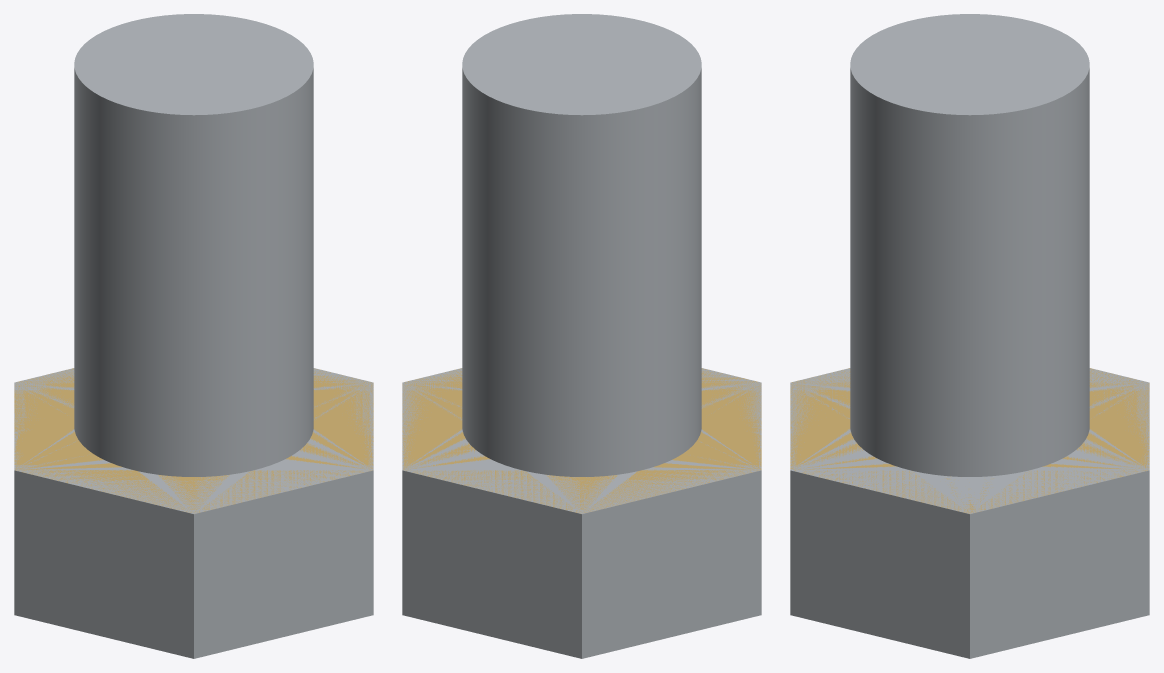
The model's file is step_02.glb.
3 views of the same model, side by side, from view 1: azimuth 30°, elevation 25°; view 2: azimuth 150°, elevation 25°; view 3: azimuth 270°, elevation 25° (orthographic).
Parts seen in each view (by area): view 1: part__hex bolt M12 x 20, added__hex bolt M12 x 20; view 2: part__hex bolt M12 x 20, added__hex bolt M12 x 20; view 3: part__hex bolt M12 x 20, added__hex bolt M12 x 20.
Boxes of the visible parts, bbox=[...] form: part__hex bolt M12 x 20: bbox=[14, 14, 373, 658]; added__hex bolt M12 x 20: bbox=[14, 368, 373, 513]; part__hex bolt M12 x 20: bbox=[402, 14, 761, 658]; added__hex bolt M12 x 20: bbox=[402, 368, 761, 513]; part__hex bolt M12 x 20: bbox=[790, 14, 1149, 658]; added__hex bolt M12 x 20: bbox=[790, 368, 1149, 513].
Size of the model in its own units: 20.8 by 28 by 18.01.
